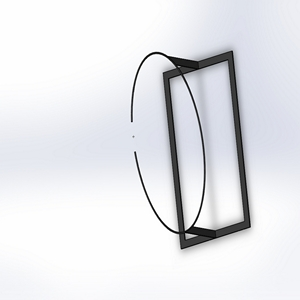circle: (128, 42, 254, 252)
